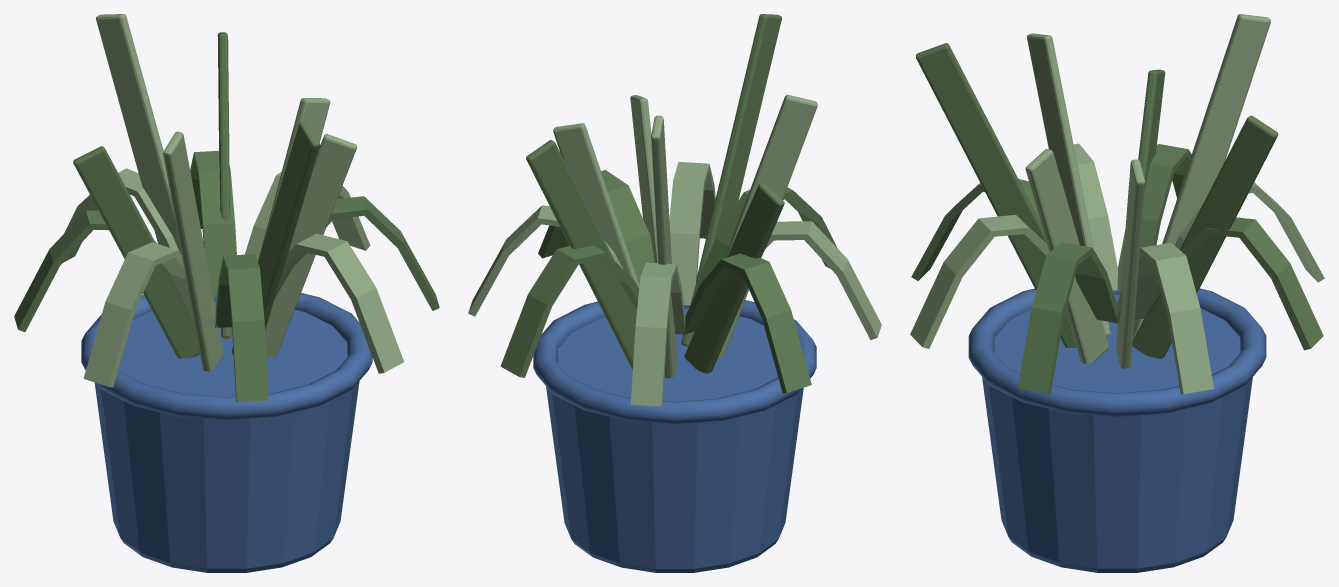
File: hh_cat_bath_plant.glb
3 views of the same model, side by side, from view 1: azimuth 30°, elevation 25°; view 2: azimuth 150°, elevation 25°; view 3: azimuth 270°, elevation 25° (orthographic). The views are drawn at different scales.
Visible parts, largest first — view 1: pot, pot_rim, leaf.003, leaf.002, leaf.012, leaf.011, leaf.006, leaf.004, leaf.013, leaf.005, leaf.008, leaf.010 (+5 smaller); view 2: pot, pot_rim, leaf.001, leaf.010, leaf.005, leaf.009, leaf.003, leaf.008, leaf.013, leaf.004, leaf, leaf.011 (+5 smaller); view 3: pot, pot_rim, leaf.005, leaf.002, leaf.001, leaf.014, leaf.007, leaf.006, leaf.004, leaf.013, leaf.008, leaf (+5 smaller).
Part boxes in pixels (x1=…): pot: x1=94, y1=301, x2=359, y2=572; pot_rim: x1=81, y1=293, x2=372, y2=420; leaf.003: x1=73, y1=146, x2=199, y2=358; leaf.002: x1=96, y1=14, x2=181, y2=254; leaf.012: x1=215, y1=254, x2=268, y2=401; leaf.011: x1=83, y1=242, x2=217, y2=387; leaf.006: x1=265, y1=134, x2=356, y2=357; leaf.004: x1=163, y1=131, x2=223, y2=371; leaf.013: x1=274, y1=233, x2=403, y2=373; leaf.005: x1=231, y1=121, x2=320, y2=355; leaf.008: x1=190, y1=151, x2=236, y2=297; leaf.010: x1=14, y1=210, x2=193, y2=331; pot: x1=546, y1=308, x2=803, y2=572; pot_rim: x1=533, y1=300, x2=816, y2=424; leaf.001: x1=526, y1=140, x2=636, y2=368; leaf.010: x1=683, y1=253, x2=811, y2=393; leaf.005: x1=681, y1=14, x2=781, y2=346; leaf.009: x1=630, y1=262, x2=685, y2=406; leaf.003: x1=684, y1=182, x2=784, y2=373; leaf.008: x1=500, y1=245, x2=639, y2=377; leaf.013: x1=669, y1=162, x2=715, y2=305; leaf.004: x1=718, y1=94, x2=817, y2=357; leaf: x1=553, y1=123, x2=639, y2=288; leaf.011: x1=765, y1=221, x2=881, y2=340; pot: x1=982, y1=294, x2=1252, y2=572; pot_rim: x1=968, y1=288, x2=1266, y2=416; leaf.005: x1=916, y1=43, x2=1076, y2=347; leaf.002: x1=1133, y1=14, x2=1270, y2=338; leaf.001: x1=1132, y1=115, x2=1278, y2=358; leaf.014: x1=1017, y1=242, x2=1118, y2=393; leaf.007: x1=1115, y1=242, x2=1213, y2=394; leaf.006: x1=1025, y1=149, x2=1108, y2=363; leaf.004: x1=1027, y1=33, x2=1110, y2=336; leaf.013: x1=910, y1=214, x2=1049, y2=348; leaf.008: x1=1144, y1=217, x2=1323, y2=350; leaf: x1=1116, y1=159, x2=1145, y2=368.
Size of the model in its own units: 0.26 by 0.34 by 0.26.
